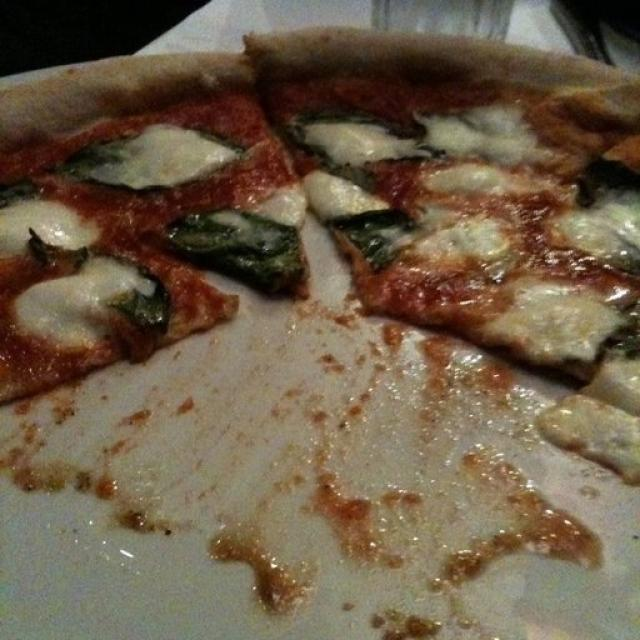Basil: (162, 205, 302, 296), (295, 128, 385, 189), (304, 98, 425, 142), (328, 206, 422, 262), (49, 138, 127, 194), (100, 281, 175, 334), (182, 109, 258, 160), (23, 221, 97, 271)
Cheese: (537, 353, 640, 487), (20, 258, 130, 348), (507, 278, 613, 354), (435, 107, 555, 173), (0, 202, 104, 264), (248, 170, 382, 218), (546, 190, 640, 258), (420, 203, 517, 264), (118, 127, 216, 183), (421, 158, 551, 196)
Pizza: (0, 28, 640, 485)
